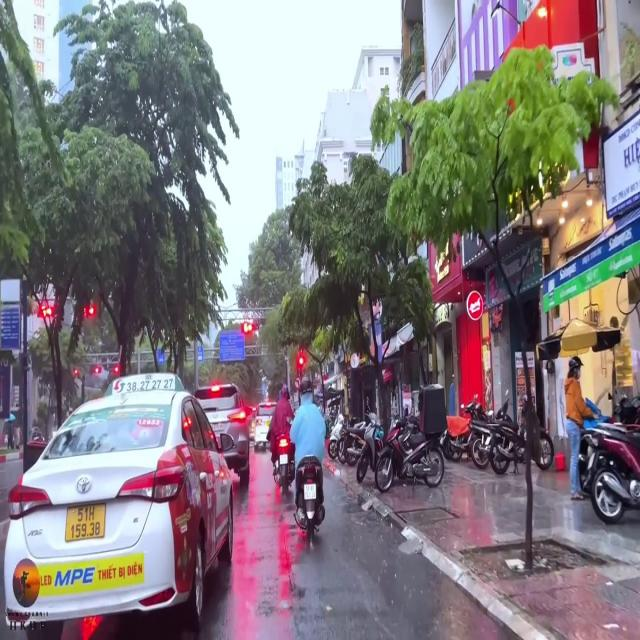bien_vang: (63, 503, 110, 543)
